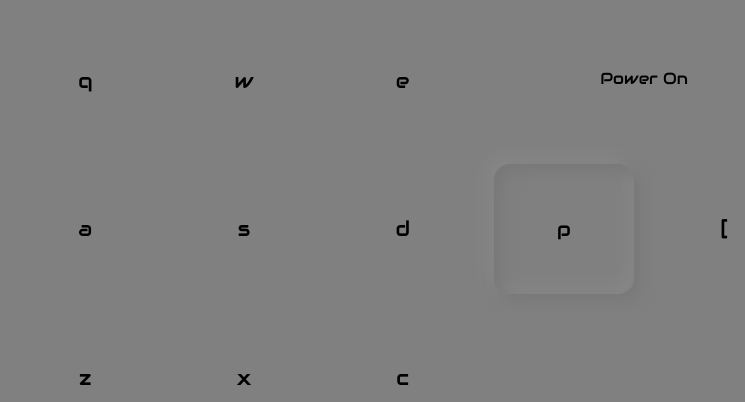
Test case: App › Should play sound on pad click
Click the button with test id "pad" showing "q". click: point(85, 80)
box: [16, 16, 155, 145]
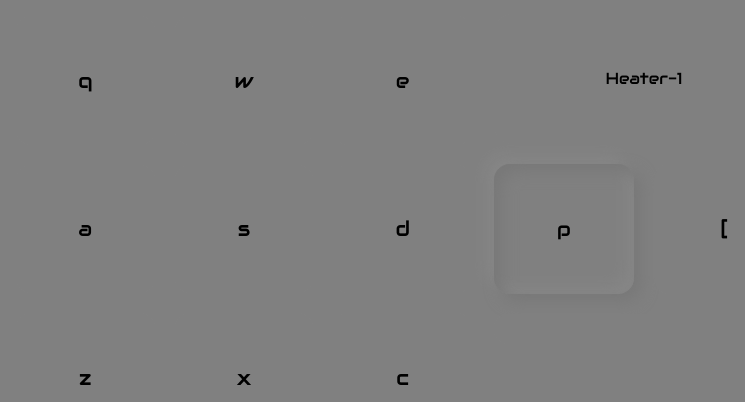
Expected: the text with test id "display" reads "Heater-1", [606, 68, 683, 89]
